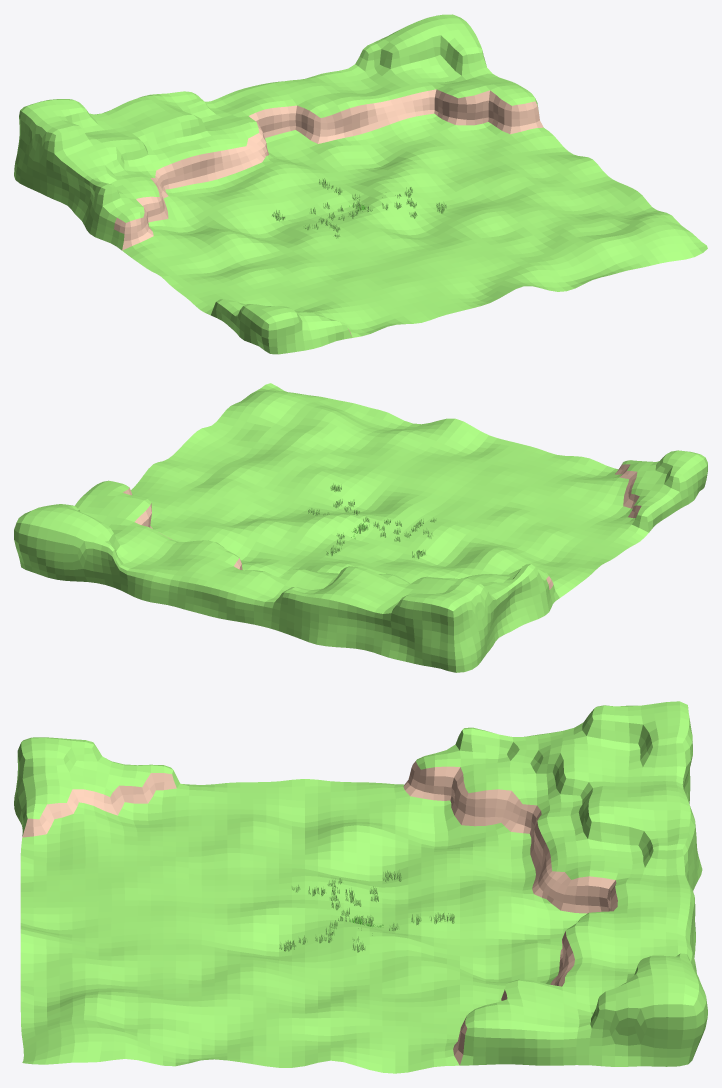
Rendered from tanahbaru.fbx.
3 renders of one model, top to bottom at view 1: azimuth 30°, elevation 25°; view 2: azimuth 150°, elevation 25°; view 3: azimuth 270°, elevation 25°, orthographic. The views are drawn at different scales.
Parts seen in each view (by area): view 1: Tanah; view 2: Tanah; view 3: Tanah.
Boxes of the visible parts, x1=… form: Tanah: x1=14, y1=14, x2=707, y2=354; Tanah: x1=14, y1=383, x2=707, y2=672; Tanah: x1=14, y1=701, x2=707, y2=1073.
Size of the model in its own units: 20536 by 3288 by 20647.
